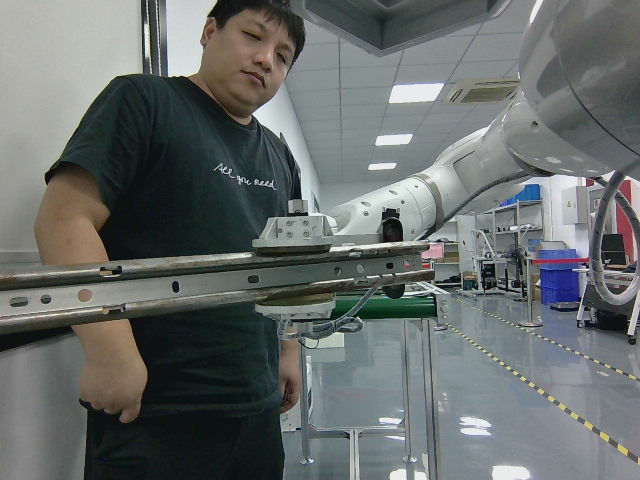left: (8, 236, 436, 323)
